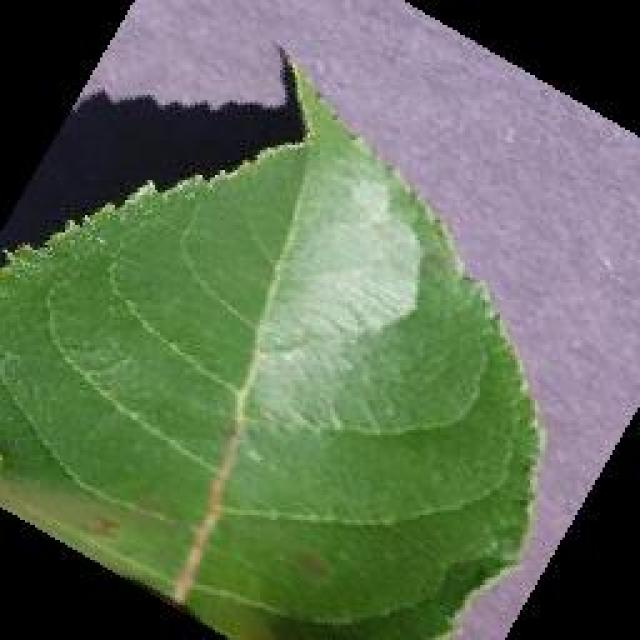apple scab disease: (0, 38, 545, 638)
